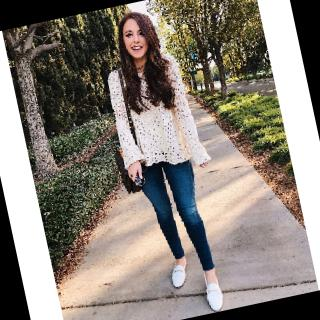loafers: (199, 262, 228, 312), (163, 255, 193, 291)
